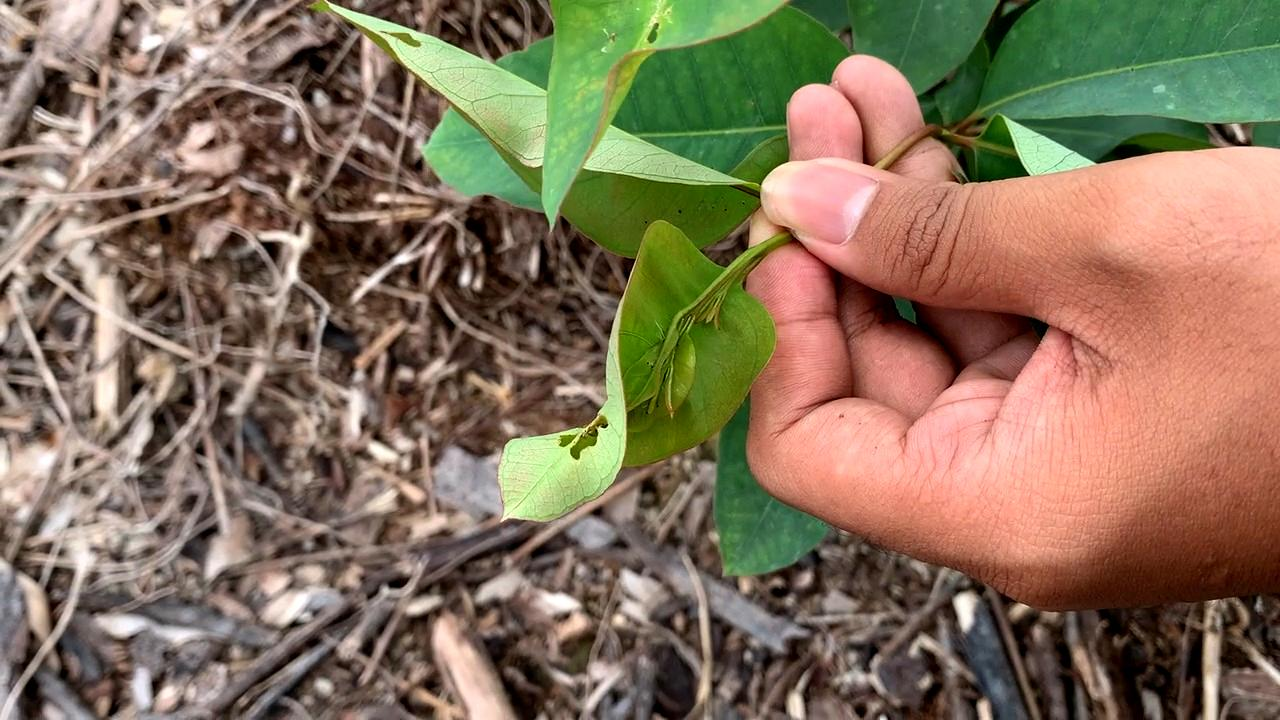Leaf Roller - Leaf: (491, 206, 782, 535)
